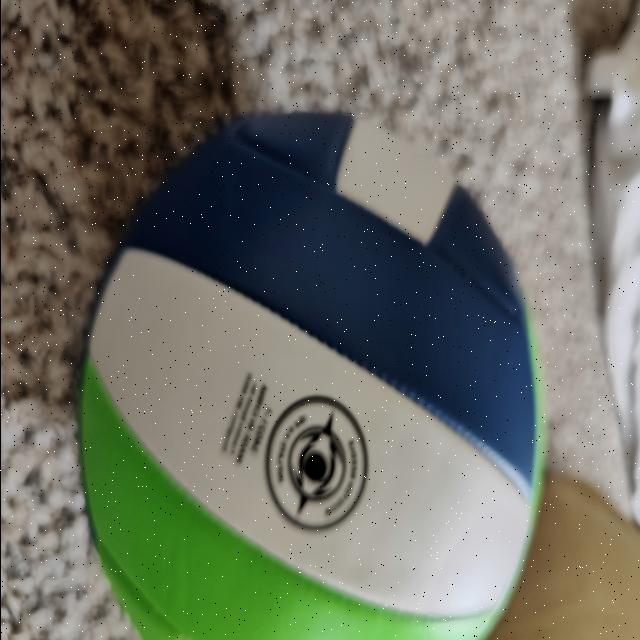ball: (82, 123, 536, 640)
